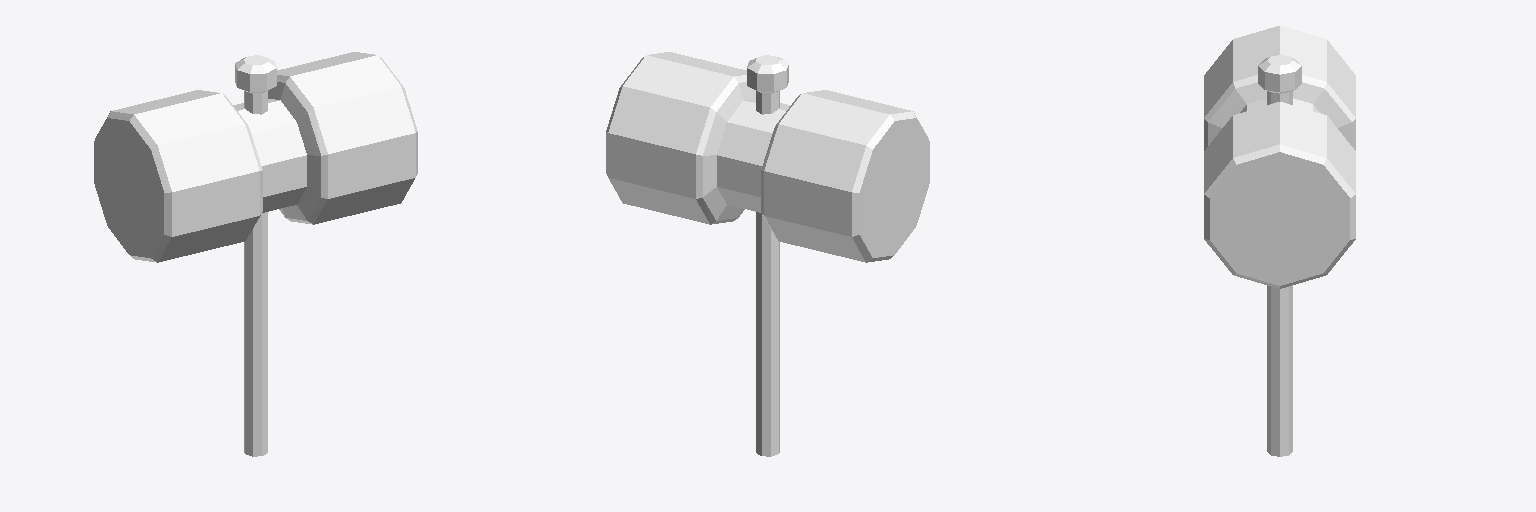
The model's file is hammer.obj.
The picture shows the model from 3 angles: view 1: azimuth 30°, elevation 25°; view 2: azimuth 150°, elevation 25°; view 3: azimuth 270°, elevation 25°; orthographic projection.
Parts seen in each view (by area): view 1: mesh0100; view 2: mesh0100; view 3: mesh0100.
Part boxes in pixels (left/top/right/bottom): mesh0100: left=94, top=52, right=417, bottom=456; mesh0100: left=606, top=52, right=929, bottom=456; mesh0100: left=1204, top=26, right=1355, bottom=456.
Size of the model in its own units: 10.4 by 15.34 by 5.4.